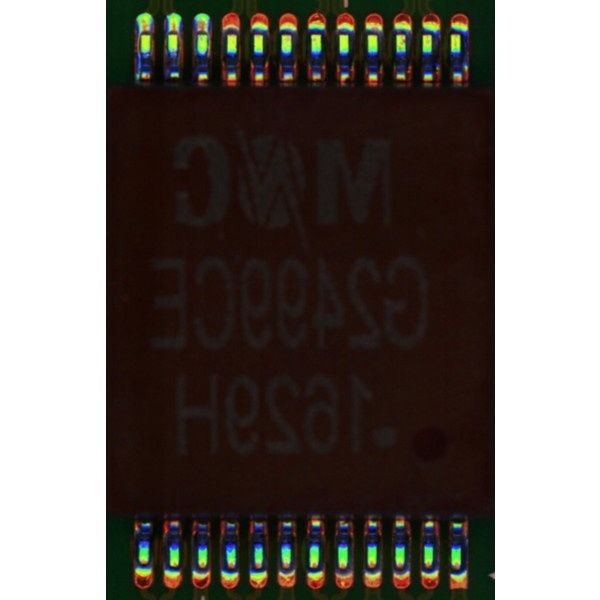Bad_podu: (168, 24, 178, 38), (141, 27, 151, 39), (197, 27, 208, 37)
Bad_qiaojiao: (136, 32, 142, 79)
